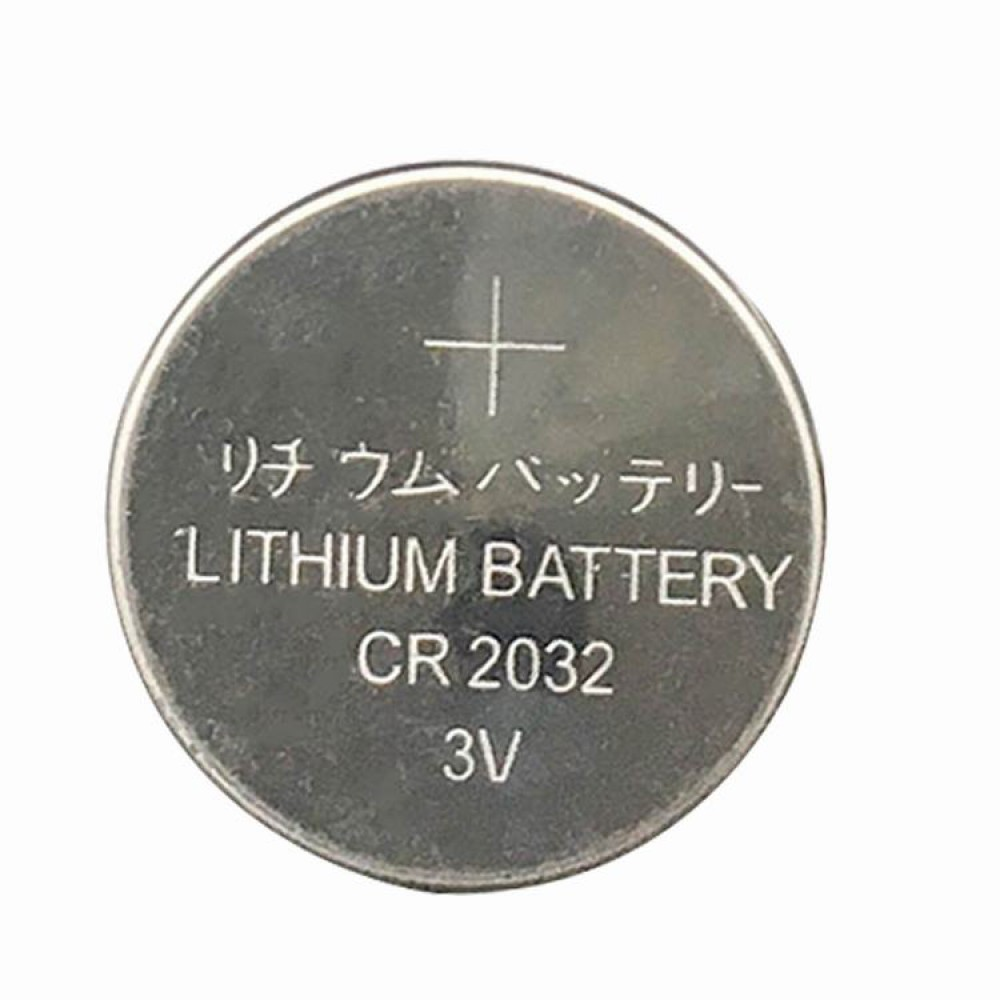Battery: (86, 132, 846, 923)
